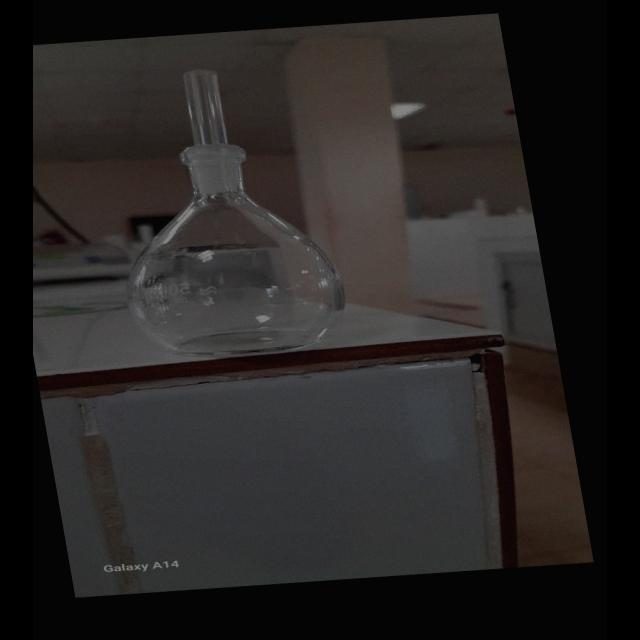Density Bottle for Liquids: (84, 62, 364, 360)
